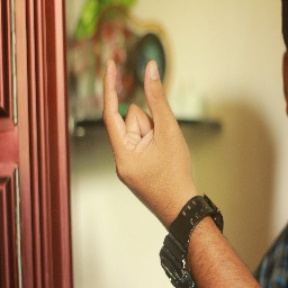U: (93, 56, 198, 185)
